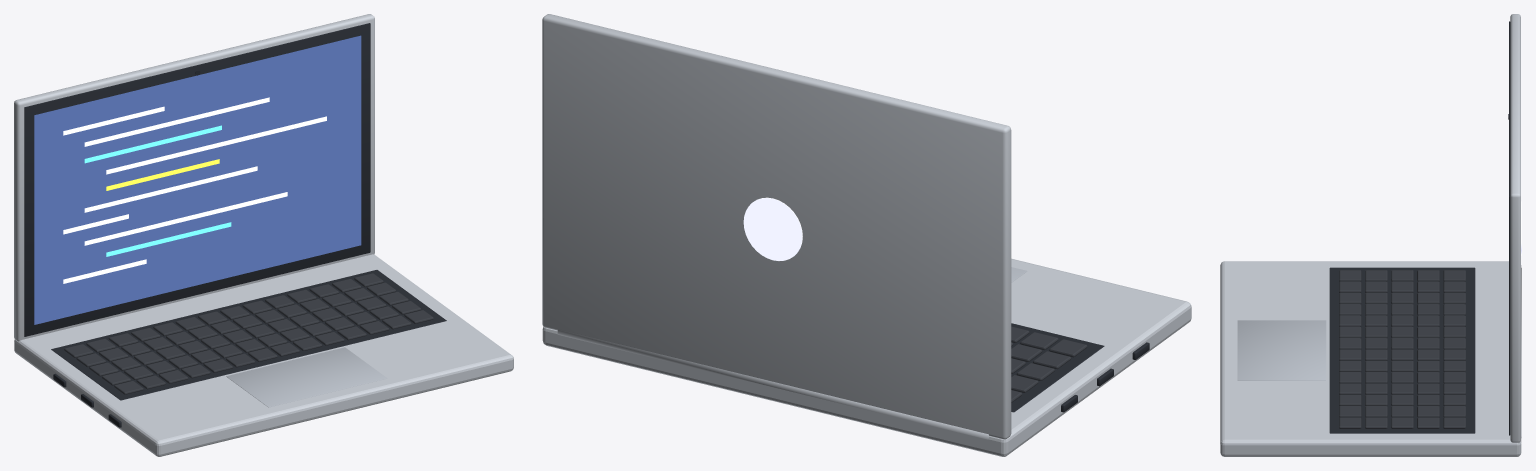
File: laptop.glb
3 views of the same model, side by side, from view 1: azimuth 30°, elevation 25°; view 2: azimuth 150°, elevation 25°; view 3: azimuth 270°, elevation 25° (orthographic). The views are drawn at different scales.
Visible parts, largest first — view 1: Screen, Chassis, LidShell, Keys, Trackpad, Code_gray, Code_emerald, Code_indigo, Code_amber; view 2: LidShell, Chassis, Keys, Logo; view 3: Chassis, Keys, Trackpad, LidShell.
Boxes of the visible parts, <box> form: Screen: <box>34,35,361,324</box>; Chassis: <box>14,254,513,456</box>; LidShell: <box>14,14,374,341</box>; Keys: <box>64,273,433,394</box>; Trackpad: <box>226,347,387,407</box>; Code_gray: <box>84,97,326,245</box>; Code_emerald: <box>84,125,231,256</box>; Code_indigo: <box>63,106,164,283</box>; Code_amber: <box>106,159,219,190</box>; LidShell: <box>542,14,1011,439</box>; Chassis: <box>542,258,1191,456</box>; Keys: <box>1011,326,1087,402</box>; Logo: <box>743,197,802,260</box>; Chassis: <box>1220,261,1521,456</box>; Keys: <box>1339,270,1465,428</box>; Trackpad: <box>1237,320,1326,380</box>; LidShell: <box>1508,14,1520,442</box>.
Bounding box in the file's own units: 3.02 × 2.05 × 2.1.
